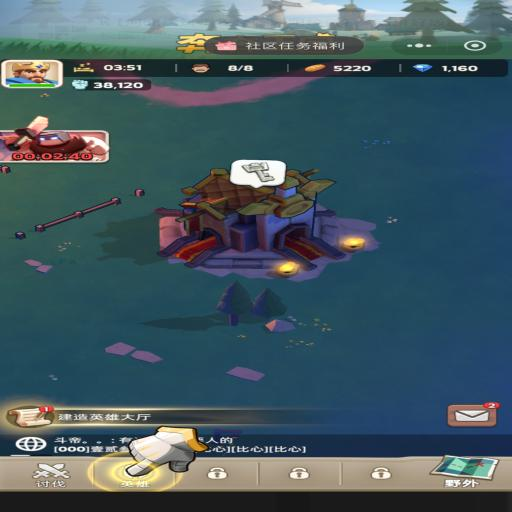newcomer_hand: (123, 425, 208, 476)
